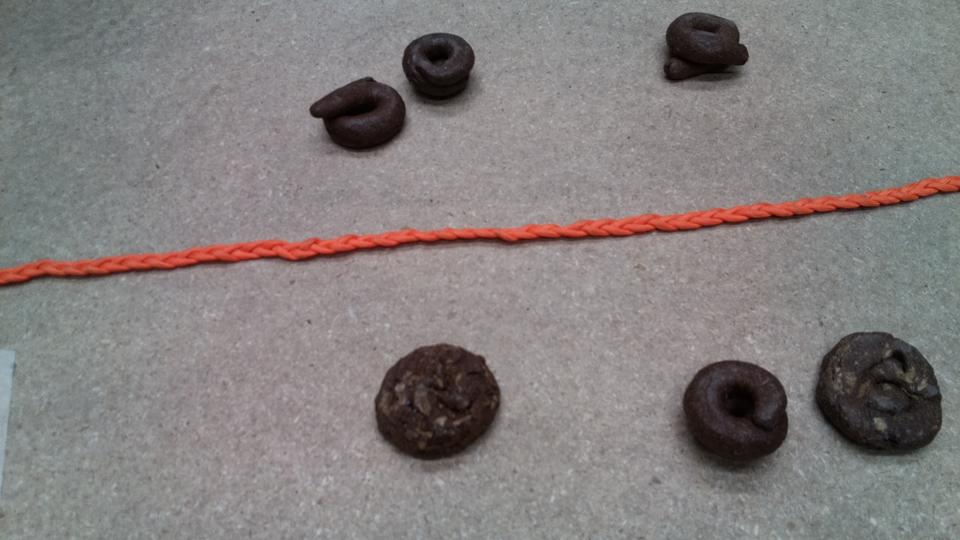poop: (813, 319, 948, 462), (370, 336, 507, 464), (682, 359, 793, 468), (309, 73, 418, 155), (663, 13, 750, 90), (403, 33, 487, 102)
rope: (300, 206, 668, 268), (2, 232, 321, 292), (665, 192, 905, 227), (862, 176, 960, 217)
